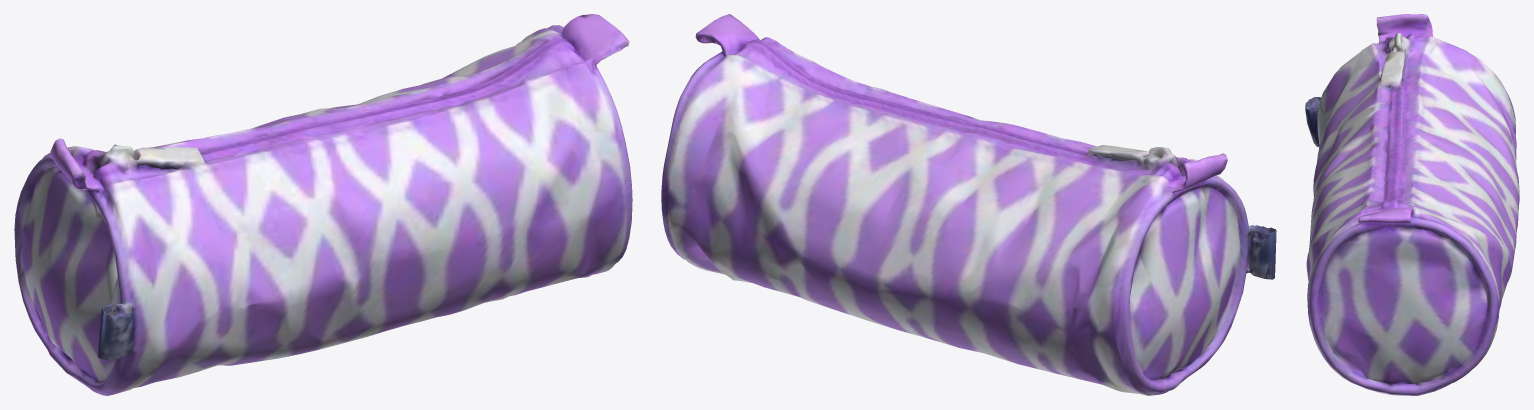
File: Wishbone_Pencil_Case-high.glb
3 renders of one model, left to right at view 1: azimuth 30°, elevation 25°; view 2: azimuth 150°, elevation 25°; view 3: azimuth 270°, elevation 25°, orthographic. The views are drawn at different scales.
Visible parts, largest first — view 1: Wishbone_Pencil_Case; view 2: Wishbone_Pencil_Case; view 3: Wishbone_Pencil_Case.
Boxes of the visible parts, box(x1,y1,x2,y2) form: Wishbone_Pencil_Case: box(14, 14, 632, 395); Wishbone_Pencil_Case: box(661, 14, 1276, 395); Wishbone_Pencil_Case: box(1305, 14, 1519, 395).
Bounding box in the file's own units: 0.2212 × 0.0944 × 0.0927.
Materials: 1 (1 with a texture image).
